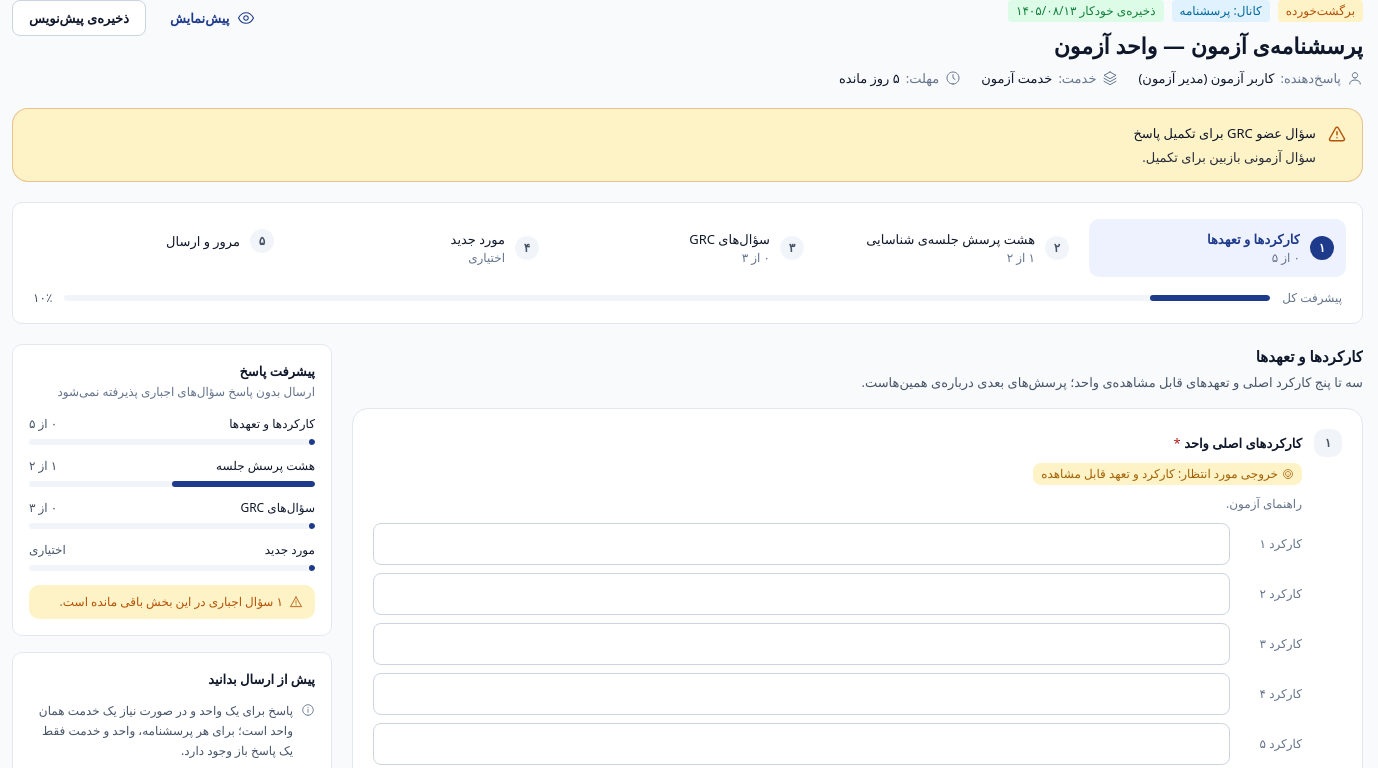
Test: ResponseFormPage › lists missing required answers and each link opens its step
The width and height of the screenshot is (1378, 768).
Click the button "پیش‌نمایش" at (213, 18), box [154,0,271,36]
(page scrolled)
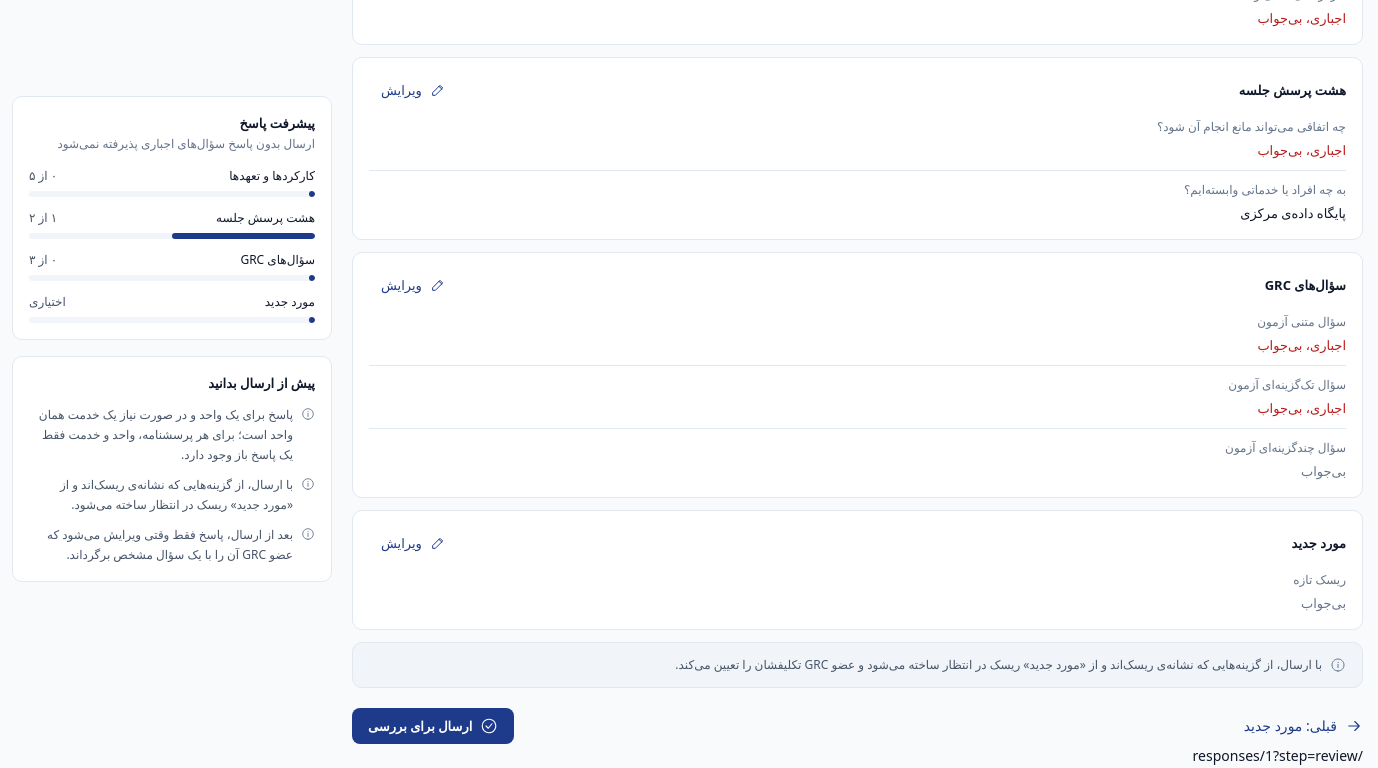
Now the text "اجباری، بی‌جواب" is shown 4 times, box [1257,9,1346,27]; [1257,141,1346,159]; [1257,336,1346,354]; [1257,399,1346,417]
Click the button "ارسال برای بررسی" at (433, 726), box [352,708,514,744]
(page scrolled)
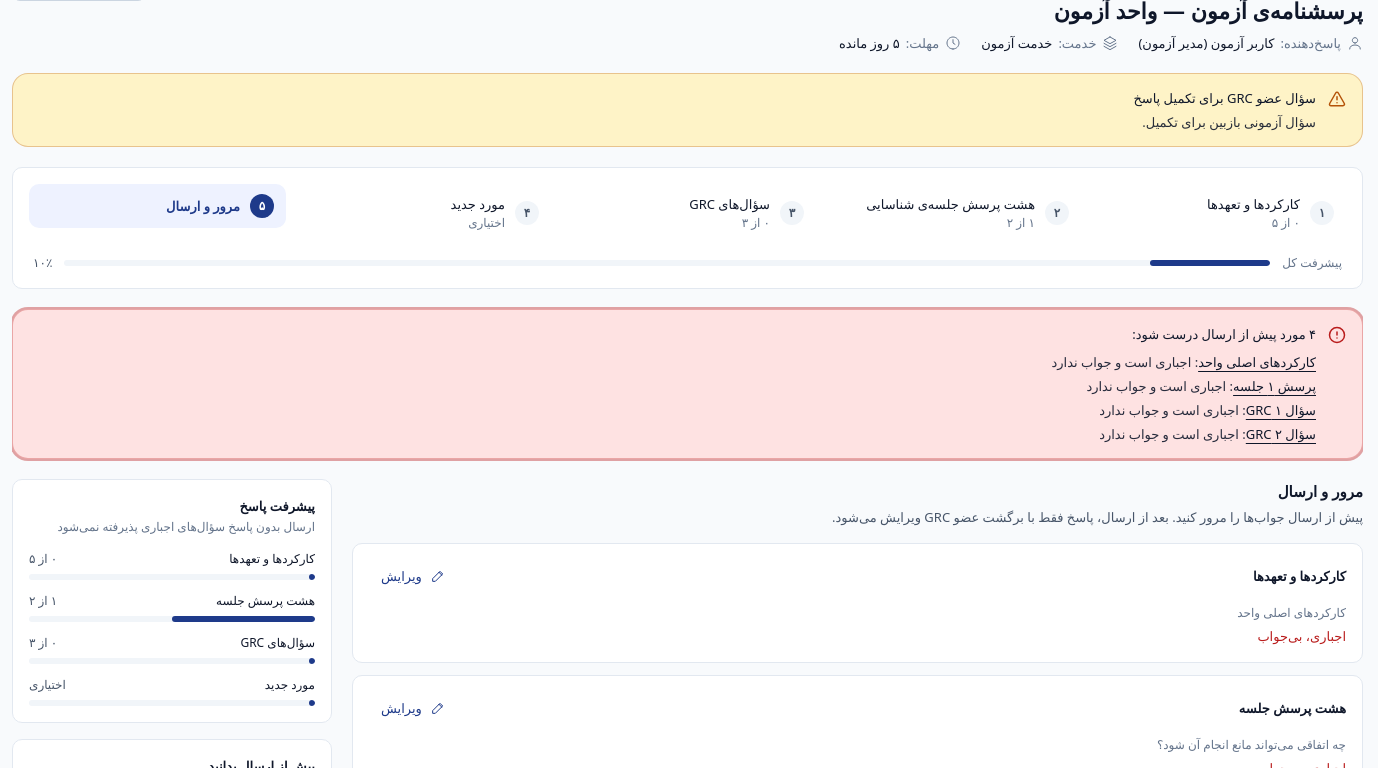
Now the message shows "۴ مورد پیش از ارسال درست شود", box [1132,325,1316,343]
Click the link "سؤال ۲ GRC" at (1259, 434), box [1246,425,1316,443]
(page scrolled)
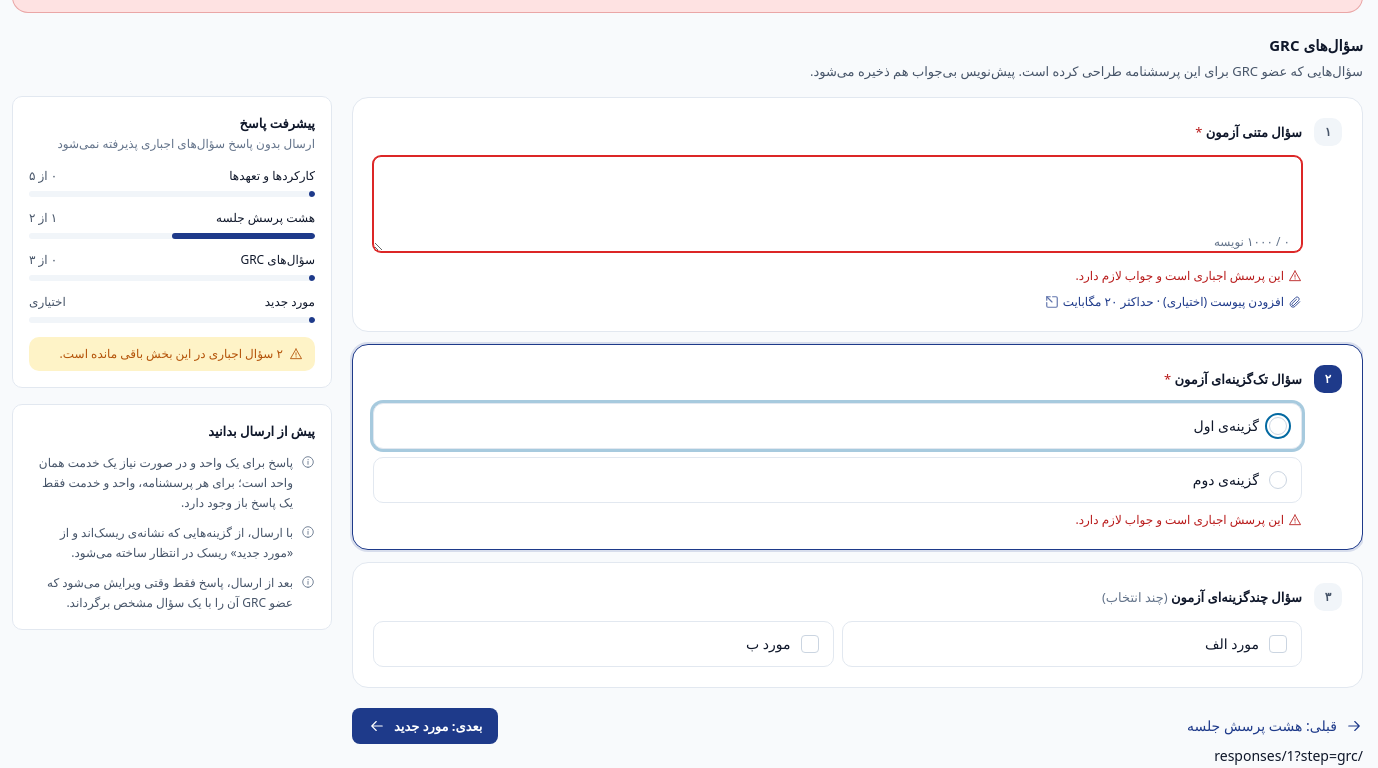
Now the heading "سؤال‌های GRC" is shown, box [1269,35,1363,55]
